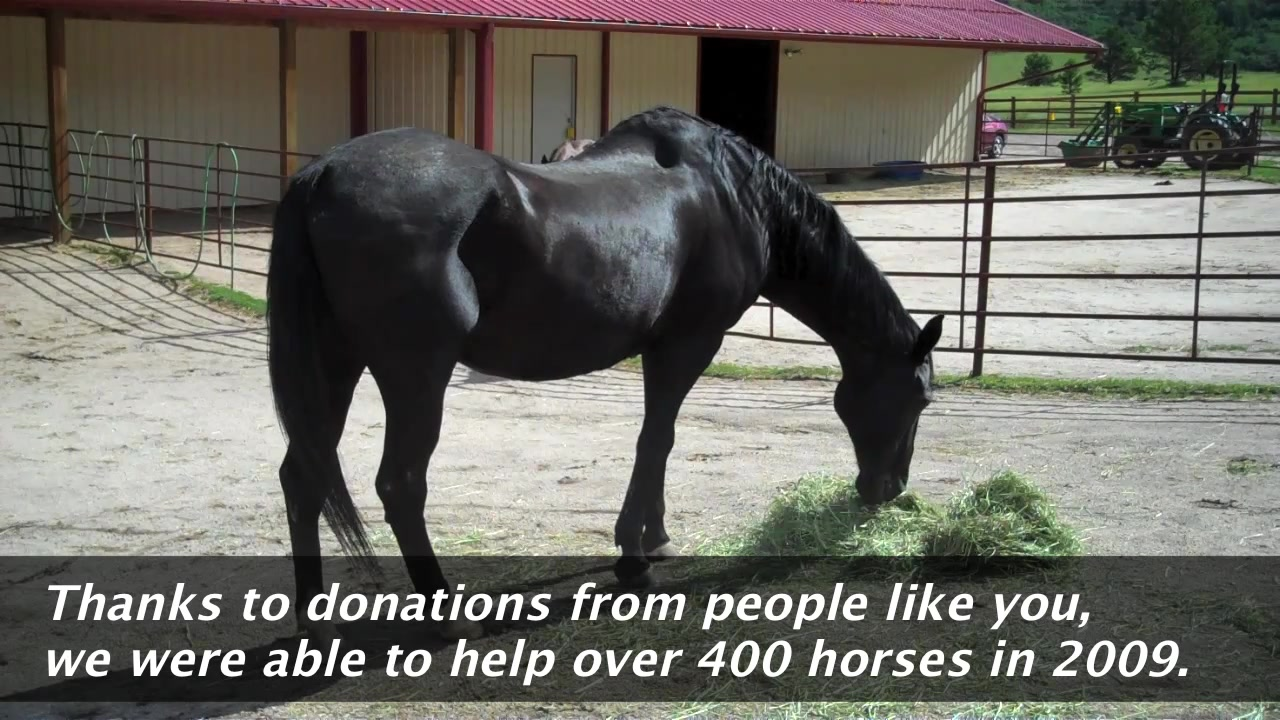horse: (265, 106, 947, 641)
